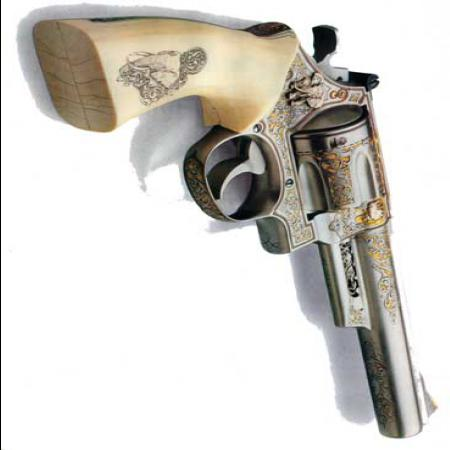Pistol: (34, 12, 440, 438)
